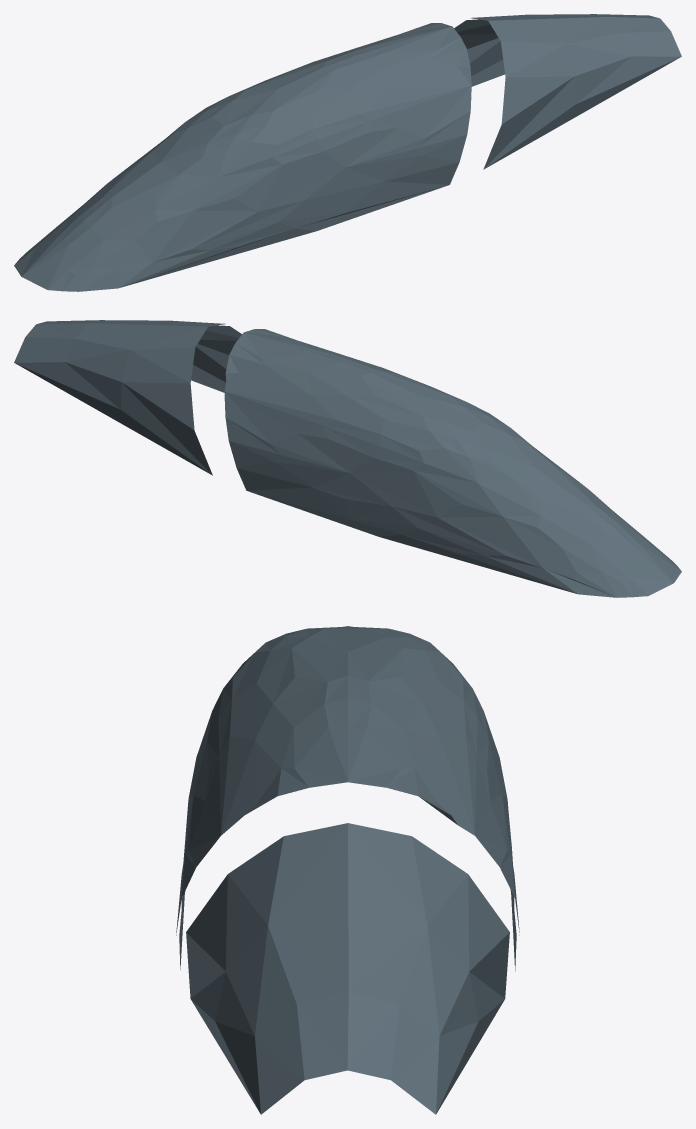
File: f16.glass.glb
3 views of the same model, one above another, from view 1: azimuth 30°, elevation 25°; view 2: azimuth 150°, elevation 25°; view 3: azimuth 270°, elevation 25° (orthographic). The views are drawn at different scales.
Parts seen in each view (by area): view 1: glass; view 2: glass; view 3: glass.
Part boxes in pixels (box(x1,y1,x2,y2)): glass: box(14, 14, 681, 291); glass: box(14, 320, 681, 597); glass: box(176, 626, 519, 1114).
Size of the model in its own units: 2.9 by 0.6457 by 0.6782.
